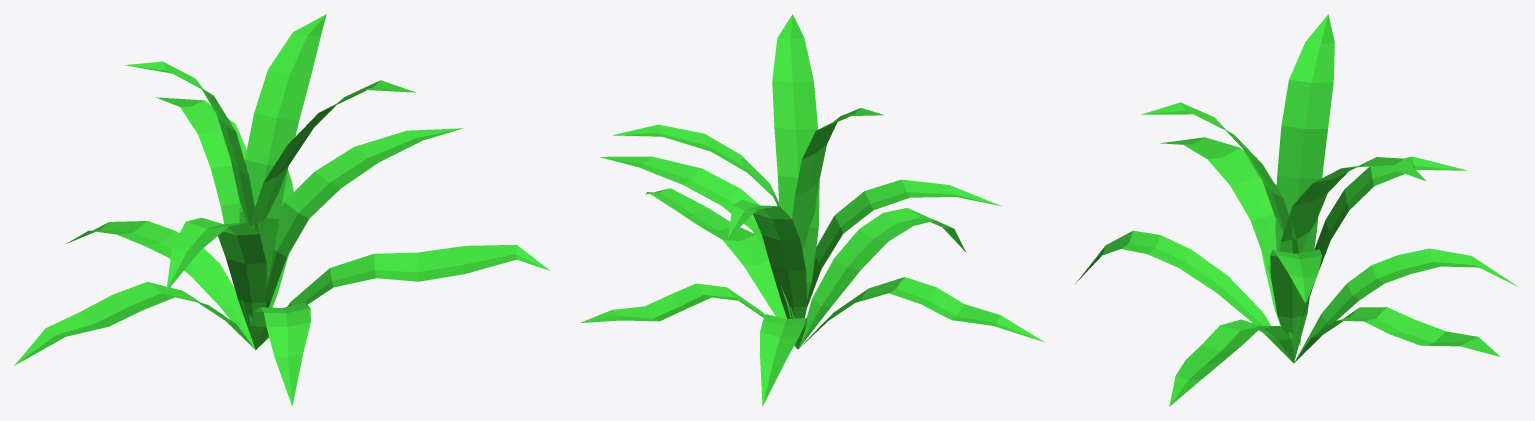
Rendered from plant1.fbx.
3 renders of one model, left to right at view 1: azimuth 30°, elevation 25°; view 2: azimuth 150°, elevation 25°; view 3: azimuth 270°, elevation 25°, orthographic. The views are drawn at different scales.
Visible parts, largest first — view 1: Plane.010; view 2: Plane.010; view 3: Plane.010.
Boxes of the visible parts, x1,y1,x2,y2 form: Plane.010: [14, 14, 550, 406]; Plane.010: [580, 14, 1044, 406]; Plane.010: [1075, 14, 1518, 406].
Bounding box in the file's own units: 151 × 88.51 × 121.
